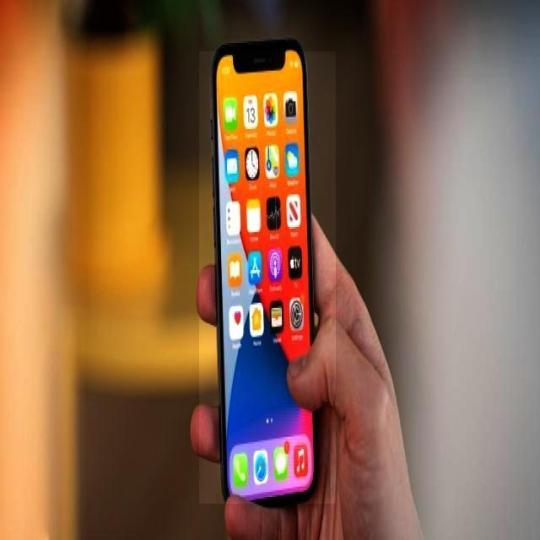phone: (208, 36, 329, 512)
